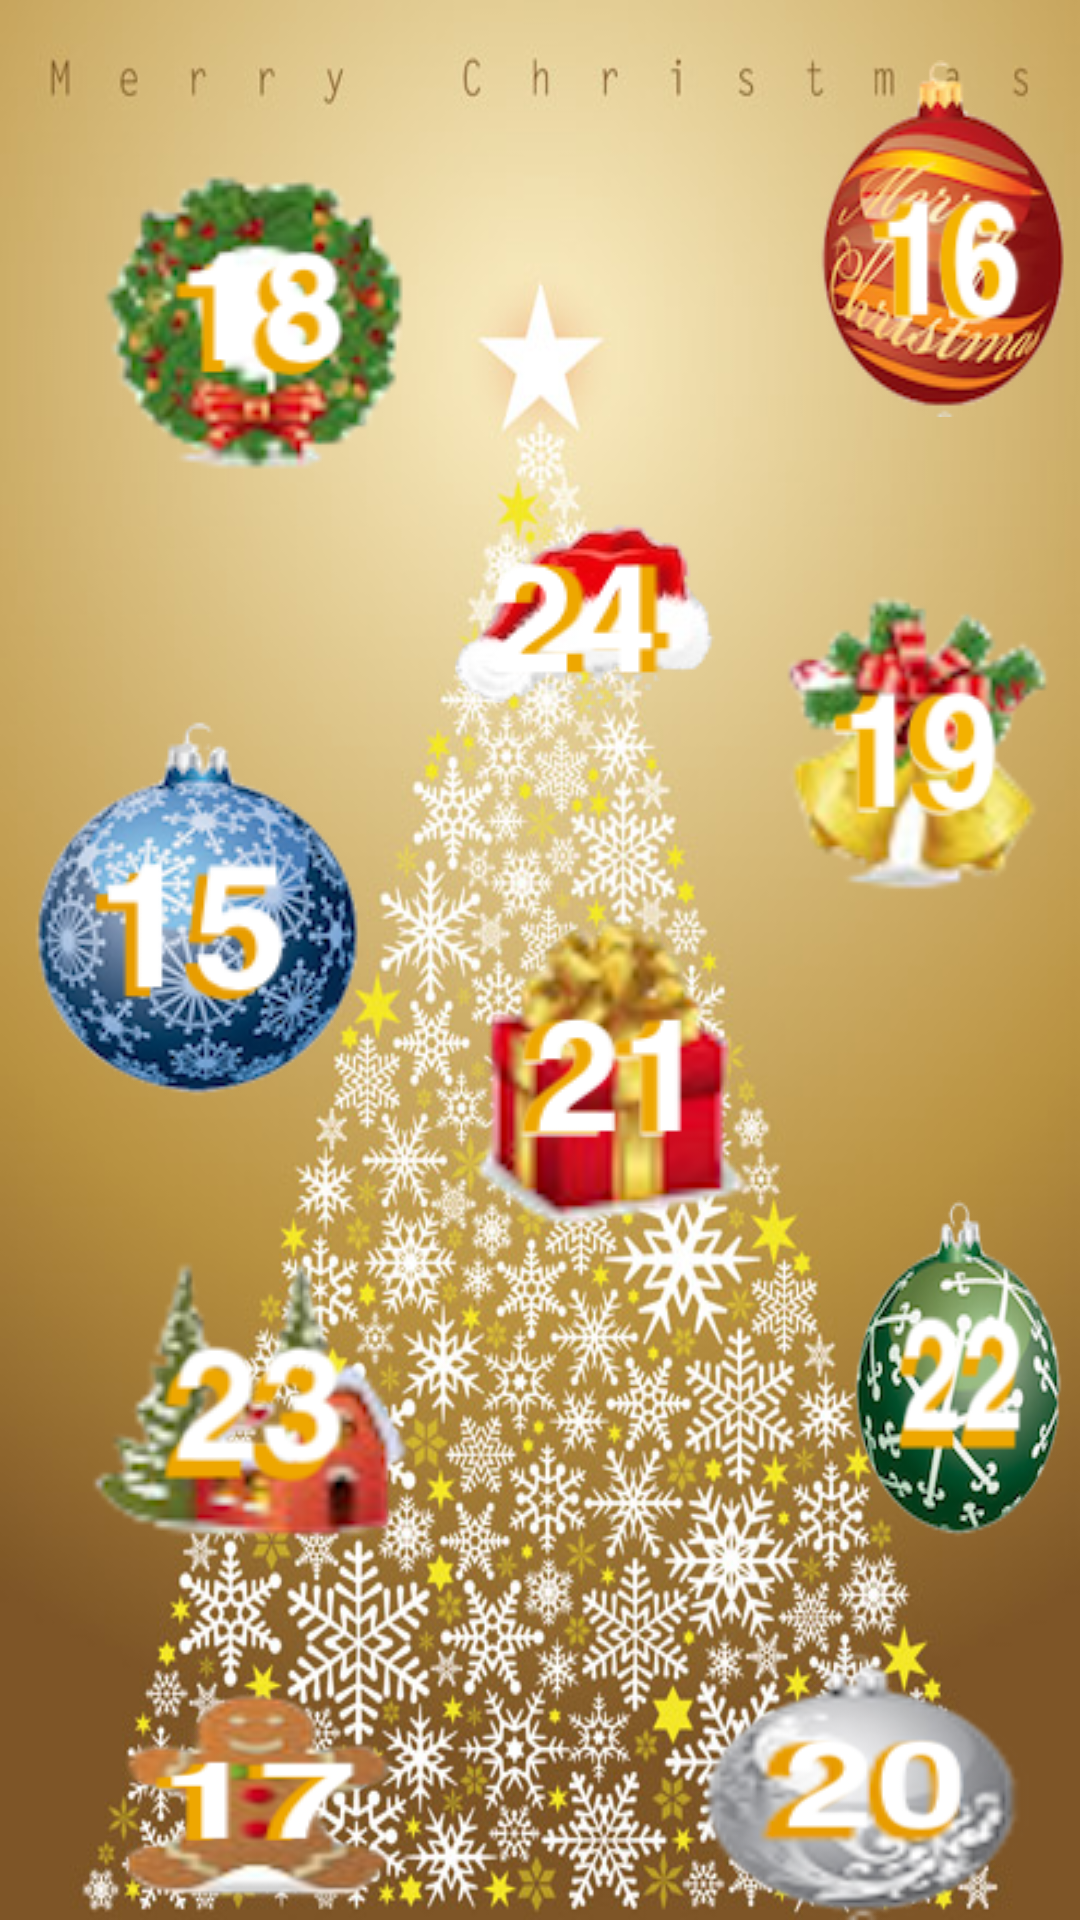

Point at icon controls on the screen. Image size 1080 × 1920, points as (x,y).
bel: (930,748)
house: (259,1405)
man: (259,1795)
present: (619,1075)
santa: (566,619)
silver: (853,1785)
